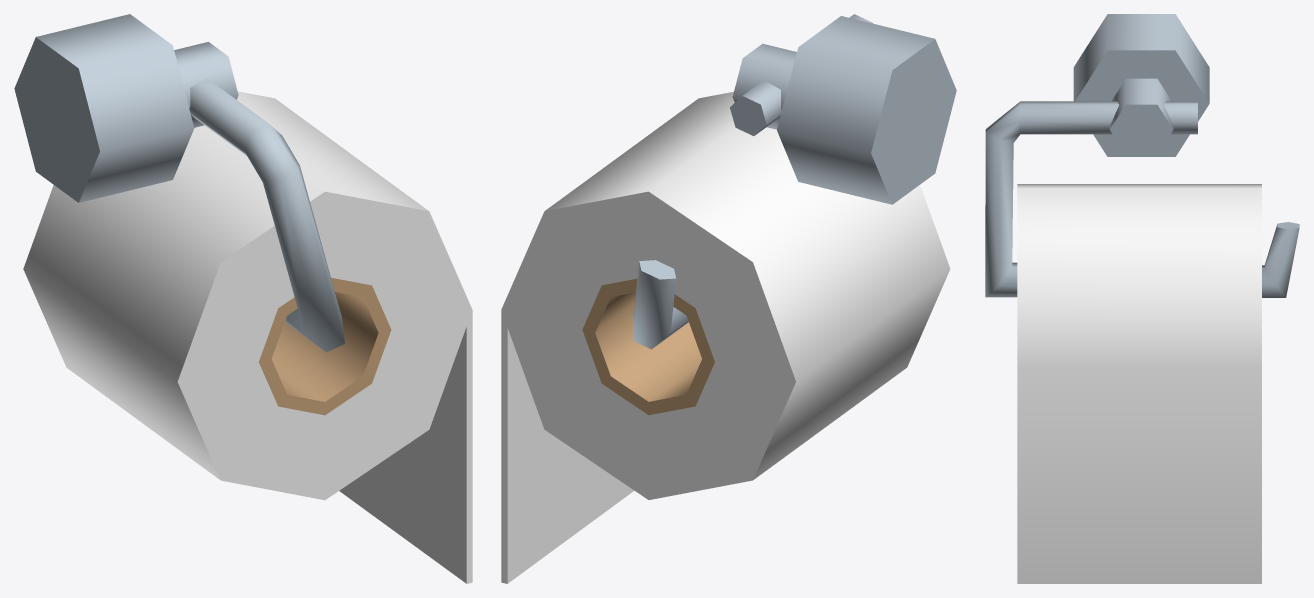
Rendered from SM_Item_ToiletRoll_Mounted_01.obj.
3 views of the same model, side by side, from view 1: azimuth 30°, elevation 25°; view 2: azimuth 150°, elevation 25°; view 3: azimuth 270°, elevation 25° (orthographic). The views are drawn at different scales.
Visible parts, largest first — view 1: SM_Item_ToiletRoll_Mounted_01_Mat_SwatchOverlay_PolygonTown_01_I; view 2: SM_Item_ToiletRoll_Mounted_01_Mat_SwatchOverlay_PolygonTown_01_I; view 3: SM_Item_ToiletRoll_Mounted_01_Mat_SwatchOverlay_PolygonTown_01_I.
Part boxes in pixels (box(x1,y1,x2,y2)): SM_Item_ToiletRoll_Mounted_01_Mat_SwatchOverlay_PolygonTown_01_I: box(14, 14, 472, 583); SM_Item_ToiletRoll_Mounted_01_Mat_SwatchOverlay_PolygonTown_01_I: box(501, 14, 956, 583); SM_Item_ToiletRoll_Mounted_01_Mat_SwatchOverlay_PolygonTown_01_I: box(985, 14, 1299, 583).
Size of the model in its own units: 0.1781 by 0.2802 by 0.1815.
1 material, 1 textured.
